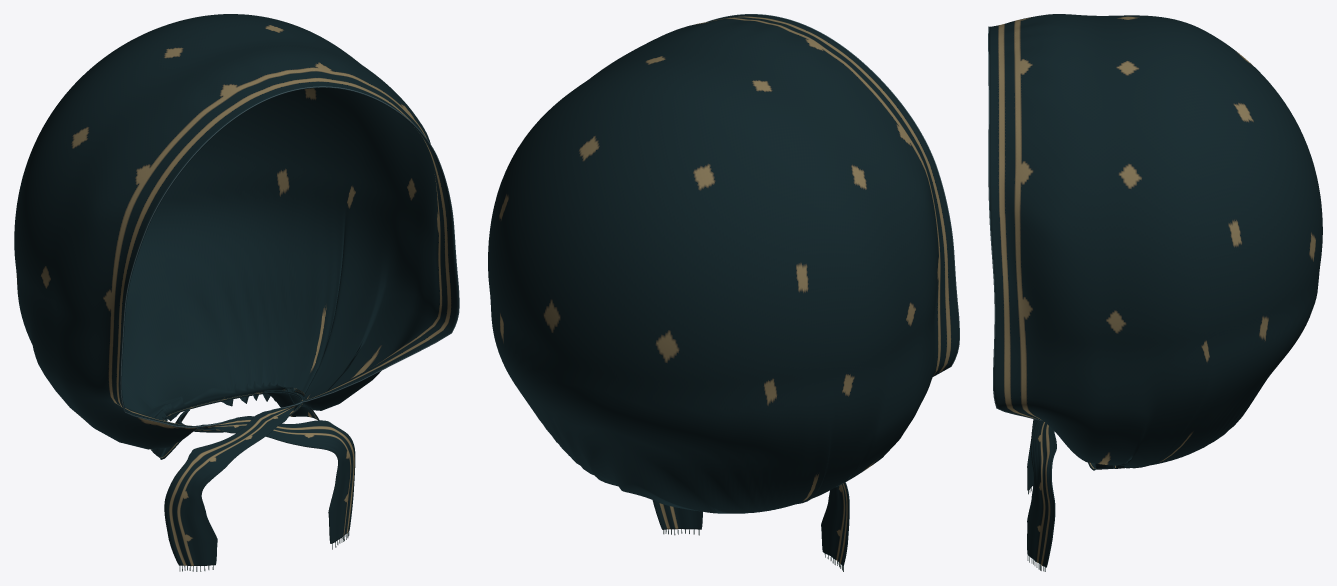
File: Masculine-Masculine-flow-buttonup-pashmina250-headgear-a7dd7407.glb
3 views of the same model, side by side, from view 1: azimuth 30°, elevation 25°; view 2: azimuth 150°, elevation 25°; view 3: azimuth 270°, elevation 25° (orthographic). The views are drawn at different scales.
Visible parts, largest first — view 1: 226 headgear / Headwear / continuous woven pashmina239, 226 headgear / Headwear / face edge239; view 2: 226 headgear / Headwear / continuous woven pashmina239, 226 headgear / Headwear / face edge239; view 3: 226 headgear / Headwear / continuous woven pashmina239, 226 headgear / Headwear / face edge239.
Part boxes in pixels (x1=…): 226 headgear / Headwear / continuous woven pashmina239: x1=14, y1=14, x2=458, y2=566; 226 headgear / Headwear / face edge239: x1=120, y1=86, x2=459, y2=427; 226 headgear / Headwear / continuous woven pashmina239: x1=488, y1=14, x2=958, y2=565; 226 headgear / Headwear / face edge239: x1=707, y1=14, x2=959, y2=376; 226 headgear / Headwear / continuous woven pashmina239: x1=989, y1=14, x2=1322, y2=567; 226 headgear / Headwear / face edge239: x1=988, y1=26, x2=1041, y2=420.
Bounding box in the file's own units: 1.1 × 1.42 × 0.8633.
Materials: 3 (1 with a texture image).
